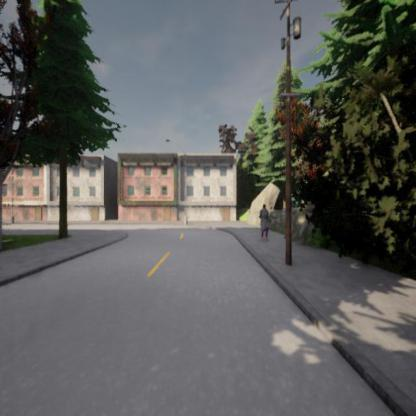person: (260, 204, 271, 242)
